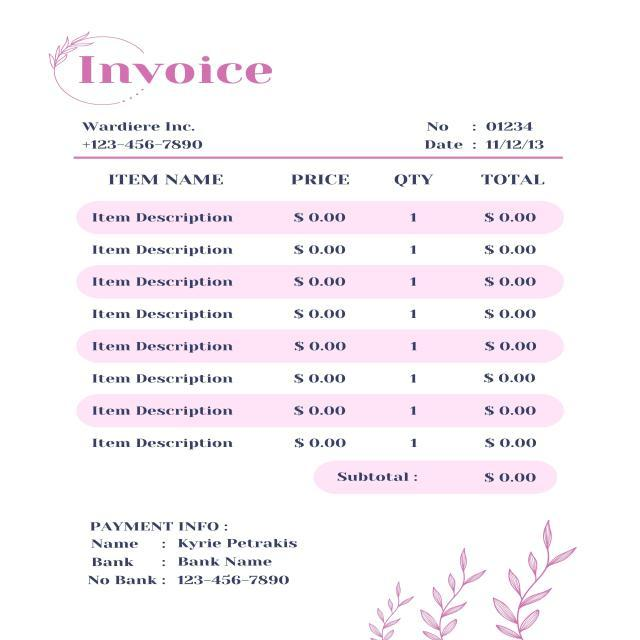ROI: (82, 163, 553, 457), (81, 512, 304, 593), (72, 45, 281, 95), (72, 113, 210, 154), (416, 112, 550, 154), (328, 464, 541, 490)
